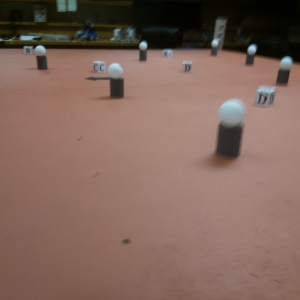blockA: (164, 49, 172, 59)
blockB: (23, 45, 33, 55)
blockC: (93, 60, 108, 73)
blockD: (256, 86, 275, 108), (182, 61, 193, 74)
corner: (214, 18, 226, 51)
obstacle: (217, 98, 244, 159), (108, 65, 126, 98), (276, 54, 291, 85), (36, 45, 48, 71), (137, 40, 150, 62), (245, 44, 255, 65), (211, 38, 218, 56)
start: (86, 76, 121, 81)
